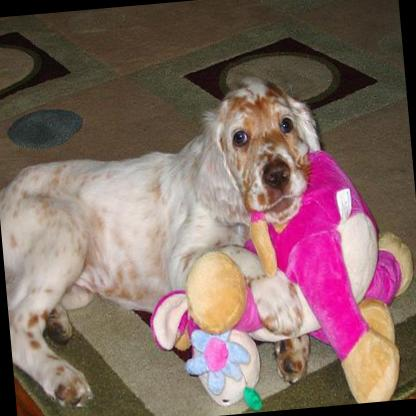English_setter: (0, 66, 343, 412)
